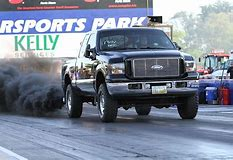smoke: (1, 61, 64, 115)
